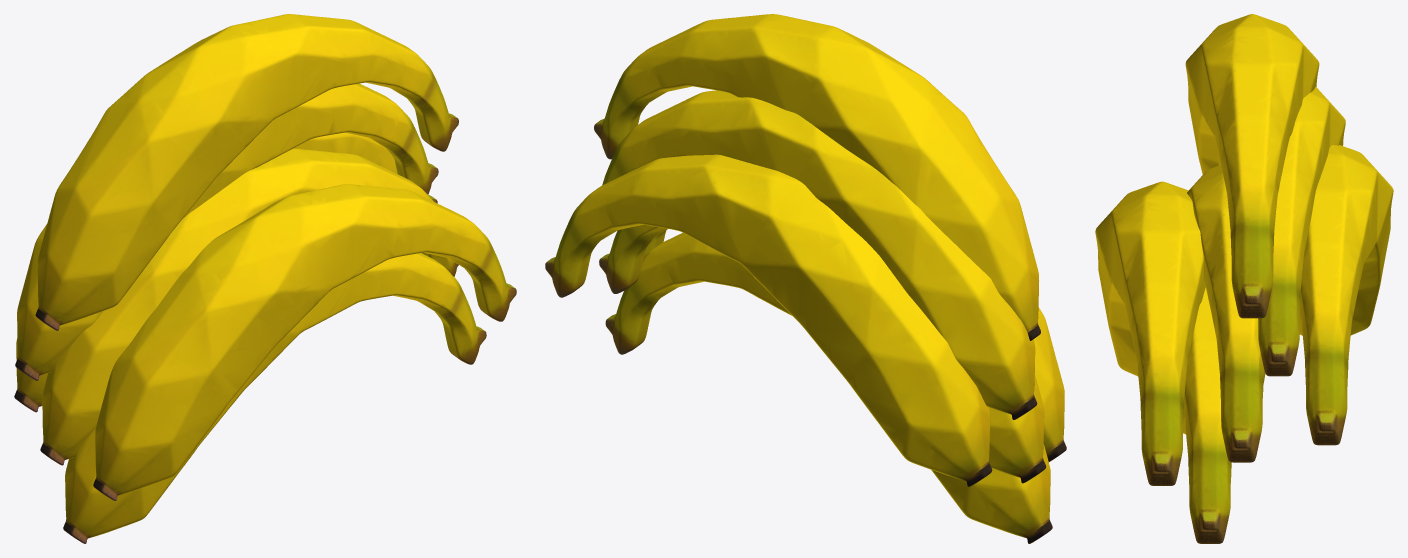
The model's file is banana-bunch.glb.
3 renders of one model, left to right at view 1: azimuth 30°, elevation 25°; view 2: azimuth 150°, elevation 25°; view 3: azimuth 270°, elevation 25°, orthographic. The views are drawn at different scales.
Visible parts, largest first — view 1: Mesh_0.001; view 2: Mesh_0.001; view 3: Mesh_0.001.
Part boxes in pixels (<box>): Mesh_0.001: <box>14,14,516,543</box>; Mesh_0.001: <box>545,14,1066,543</box>; Mesh_0.001: <box>1095,14,1393,543</box>.
Size of the model in its own units: 1.06 by 1.04 by 0.562.
1 material, 1 textured.
